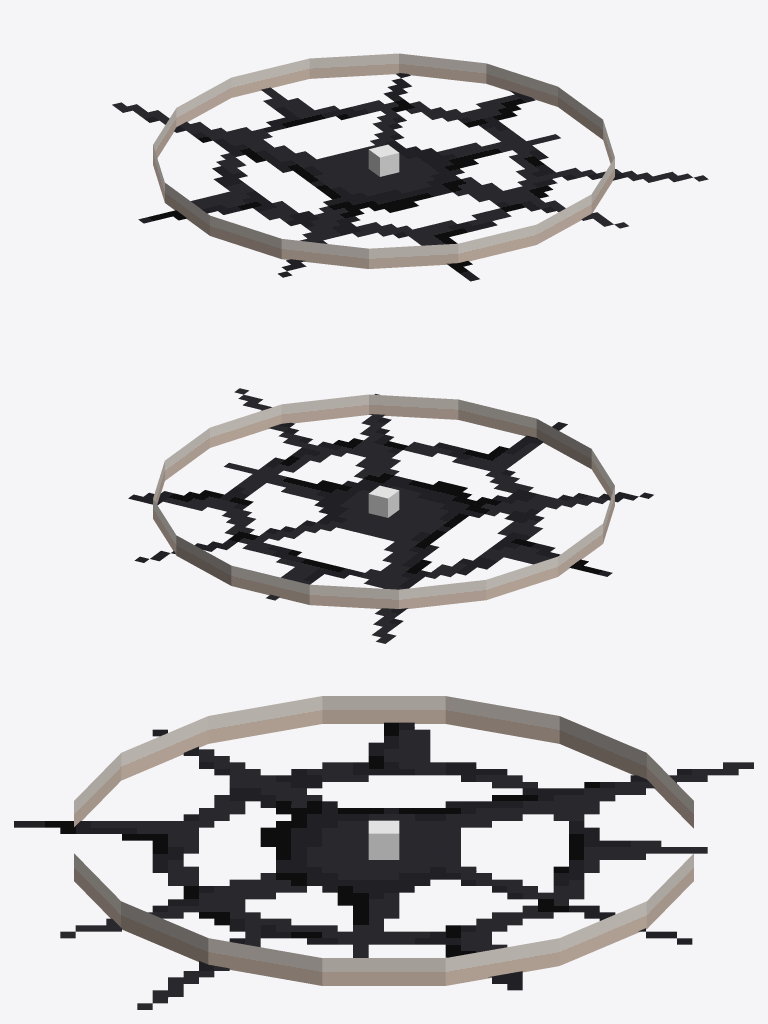
Rendered from ground-smash.gltf.
3 views of the same model, one above another, from view 1: azimuth 30°, elevation 25°; view 2: azimuth 150°, elevation 25°; view 3: azimuth 270°, elevation 25° (orthographic). The views are drawn at different scales.
Visible parts, largest first — view 1: cube (×3); view 2: cube (×3); view 3: cube (×3).
Boxes of the visible parts, box(x1,y1,x2,y2) form: cube (×3): box(112, 53, 708, 281); cube (×3): box(128, 388, 653, 643); cube (×3): box(14, 696, 753, 1009).
Bounding box in the file's own units: 3 × 0.125 × 3.
Materials: 2 (1 with a texture image).
